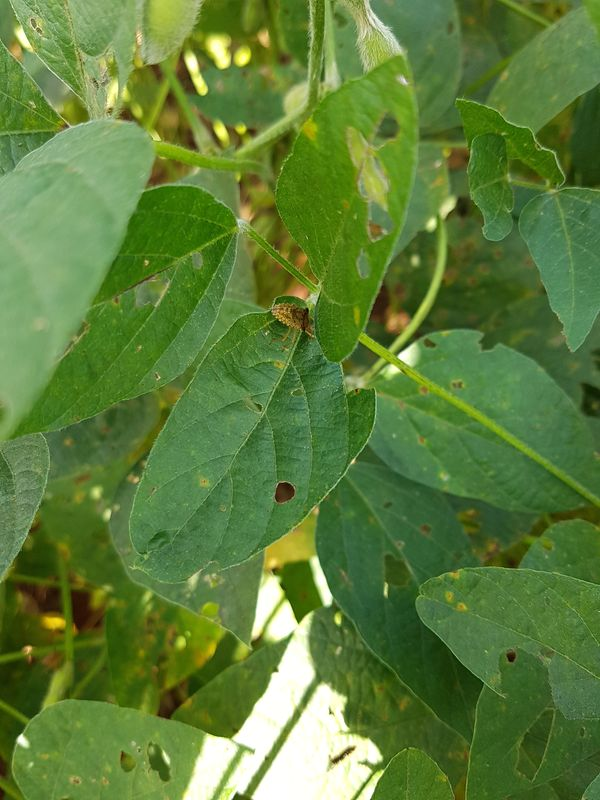Euschistus_heros_ninfa: (264, 295, 321, 343)
